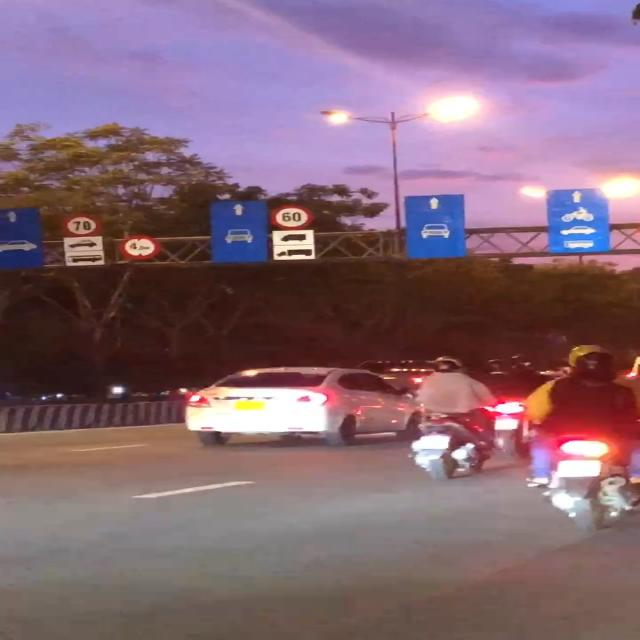Bien bao toc do toi da cho phep: (269, 202, 313, 230), (60, 214, 106, 236)
